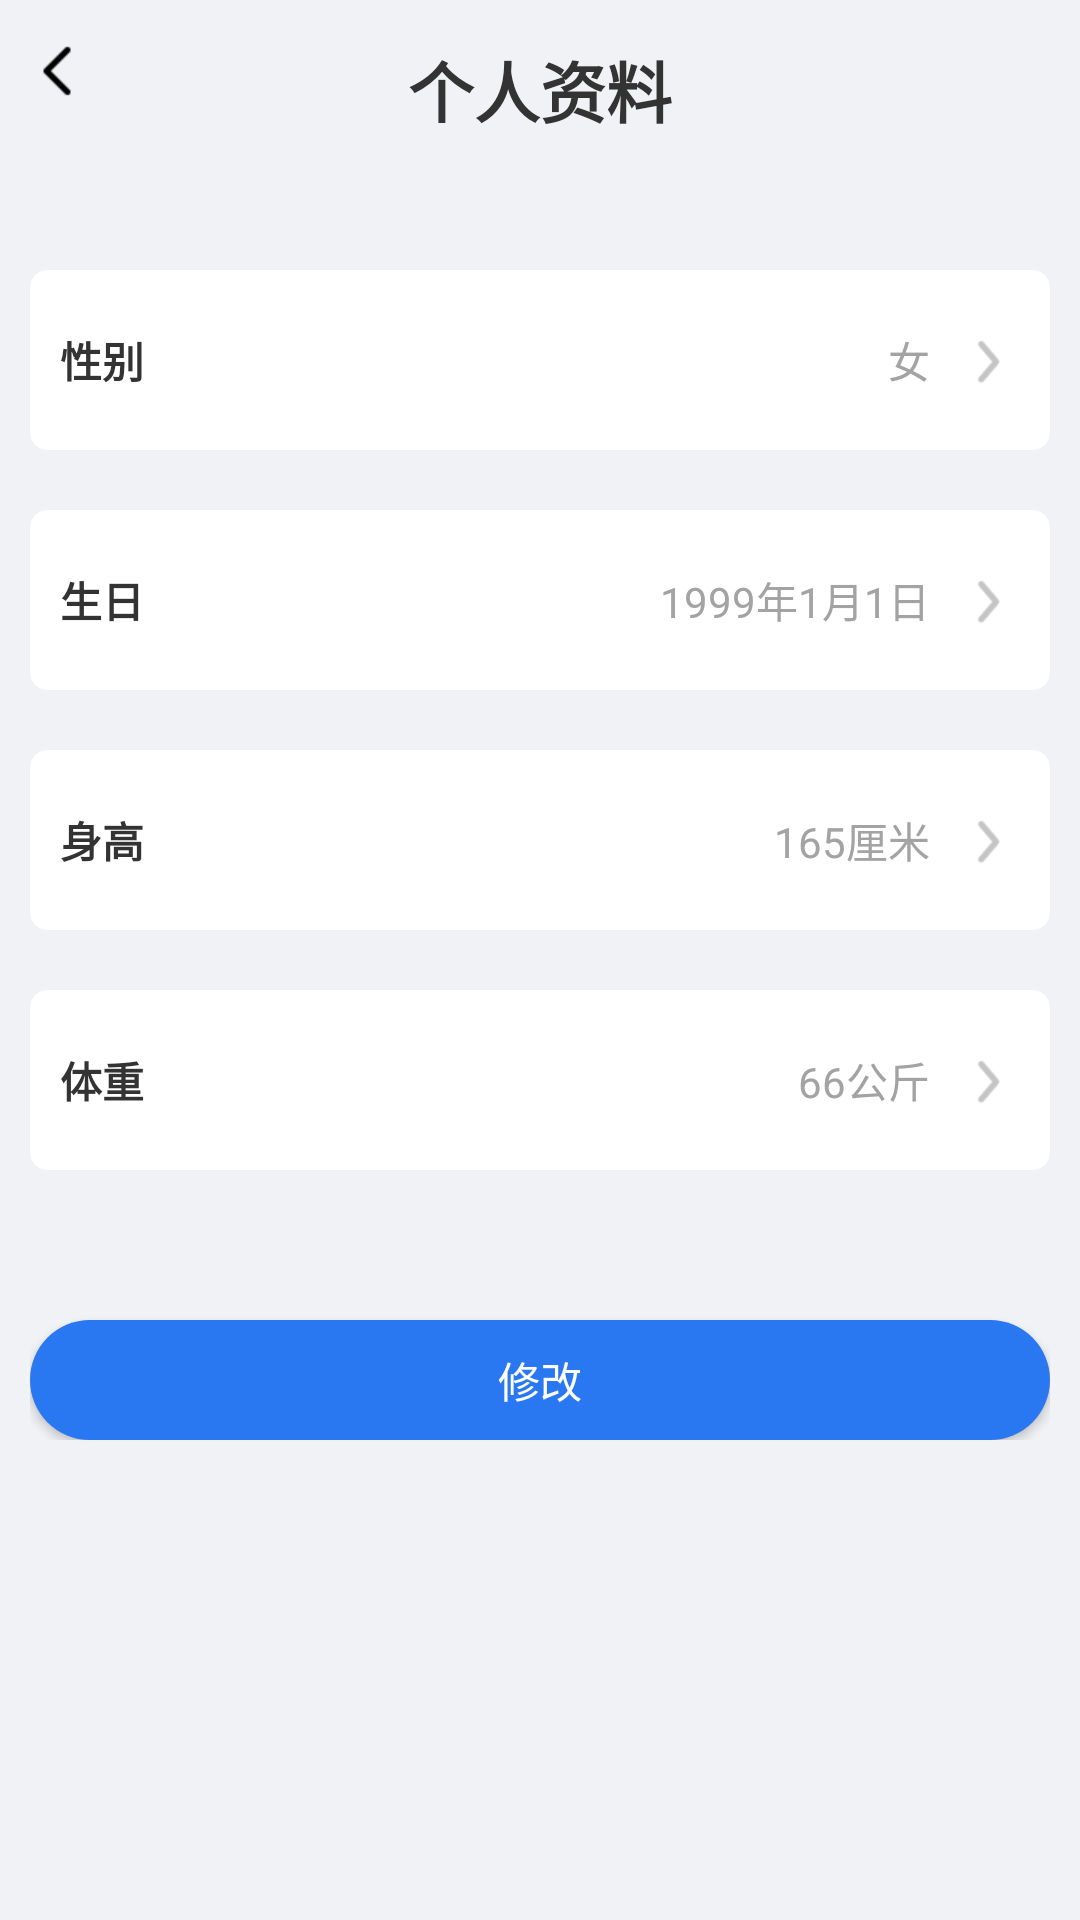

Screen size 1080px x 1920px. Icon name, then its center in pixels as point (x, y):
back: point (57, 71)
next: point (988, 361), point (988, 601), point (988, 841), point (988, 1081)
